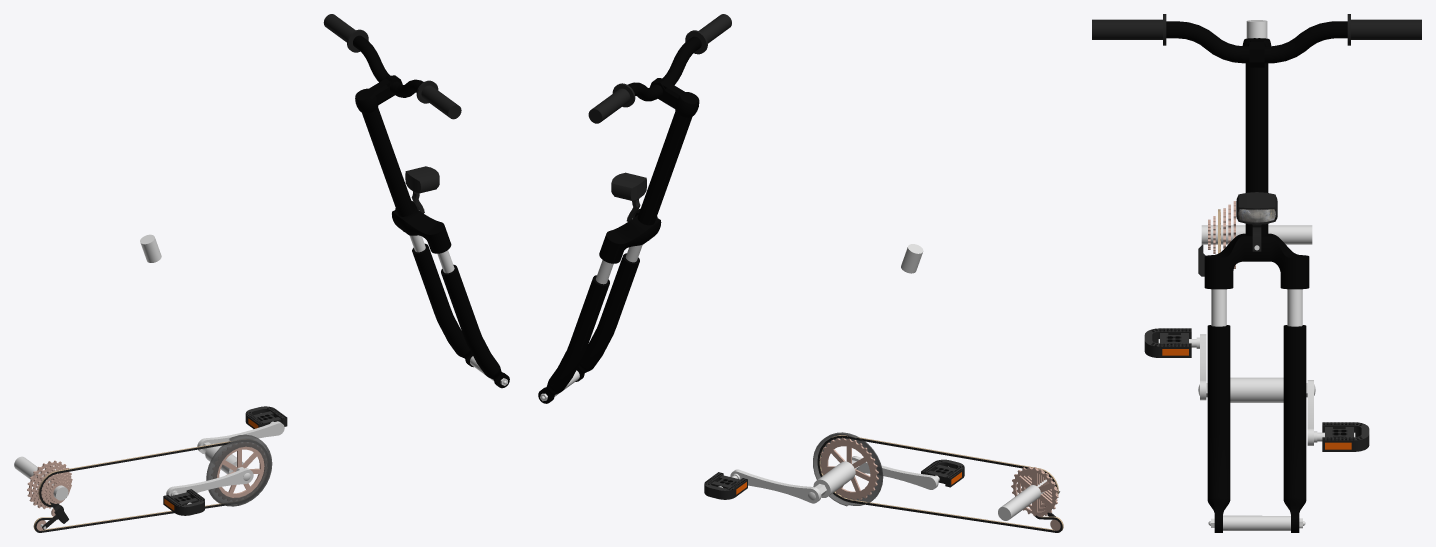
Rendered from init.glb.
3 renders of one model, left to right at view 1: azimuth 30°, elevation 25°; view 2: azimuth 150°, elevation 25°; view 3: azimuth 270°, elevation 25°, orthographic. The views are drawn at different scales.
Visible parts, largest first — view 1: Bike01\Lenkgabel, Bike01\Pedale, Bike01\kettenschutz, Bike01\ketteSimple, Bike01\Kettenantrieb, Bike02\Lampe.001; view 2: Bike01\Lenkgabel, Bike01\Pedale, Bike01\ketteSimple, Bike01\Kettenantrieb, Bike01\kettenschutz, Bike01\Ritzel 2, Bike02\Lampe.001, Bike01\#axisBack; view 3: Bike01\Lenkgabel, Bike01\Pedale, Bike01\#axisBack, Bike02\Lampe.001, Bike01\#axisFront, Bike01\#saddle.
Boxes of the visible parts, x1,y1,x2,y2 form: Bike01\Lenkgabel: [323, 14, 509, 388]; Bike01\Pedale: [163, 406, 287, 515]; Bike01\kettenschutz: [206, 434, 272, 506]; Bike01\ketteSimple: [33, 440, 237, 532]; Bike01\Kettenantrieb: [217, 446, 264, 497]; Bike02\Lampe.001: [405, 166, 439, 193]; Bike01\Lenkgabel: [538, 14, 731, 403]; Bike01\Pedale: [704, 456, 964, 503]; Bike01\ketteSimple: [817, 435, 1063, 532]; Bike01\Kettenantrieb: [819, 437, 878, 500]; Bike01\kettenschutz: [813, 432, 883, 506]; Bike01\Ritzel 2: [1011, 466, 1058, 516]; Bike02\Lampe.001: [611, 172, 646, 200]; Bike01\#axisBack: [998, 479, 1046, 520]; Bike01\Lenkgabel: [1092, 14, 1421, 532]; Bike01\Pedale: [1144, 328, 1369, 451]; Bike01\#axisBack: [1201, 225, 1312, 244]; Bike02\Lampe.001: [1236, 192, 1277, 224]; Bike01\#axisFront: [1223, 515, 1290, 530]; Bike01\#saddle: [1246, 20, 1267, 38].
Size of the model in its own units: 1.15 by 0.9189 by 0.52.
12 materials, 2 textured.
